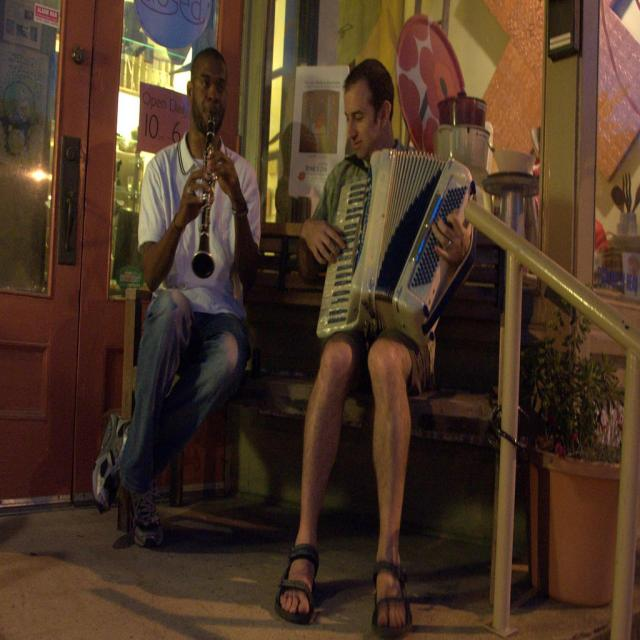clarinet: (190, 105, 222, 282)
